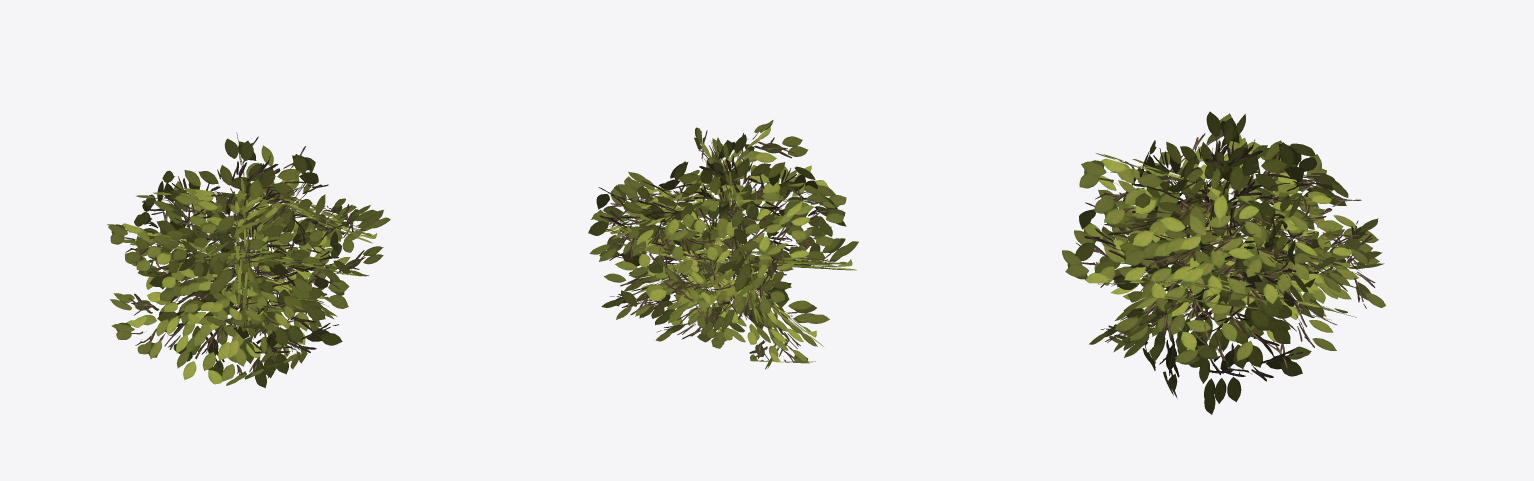
The model's file is Bush1.FBX.
3 views of the same model, side by side, from view 1: azimuth 30°, elevation 25°; view 2: azimuth 150°, elevation 25°; view 3: azimuth 270°, elevation 25° (orthographic). The views are drawn at different scales.
Visible parts, largest first — view 1: Bush01; view 2: Bush01; view 3: Bush01.
Part boxes in pixels (left/top/right/bottom): Bush01: left=107, top=132, right=390, bottom=388; Bush01: left=588, top=120, right=858, bottom=369; Bush01: left=1062, top=111, right=1385, bottom=414.
Bounding box in the file's own units: 291 × 256 × 285.
Materials: 1 (1 with a texture image).
